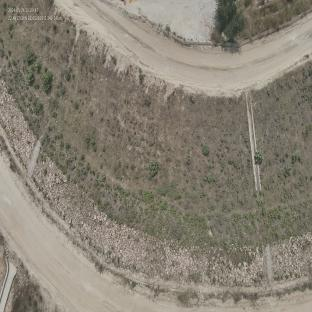rock_toe: (34, 152, 266, 287), (0, 77, 35, 165), (275, 233, 312, 278)
slope_drain: (27, 31, 80, 177), (245, 92, 275, 284)
toe_drain: (0, 126, 312, 305)
